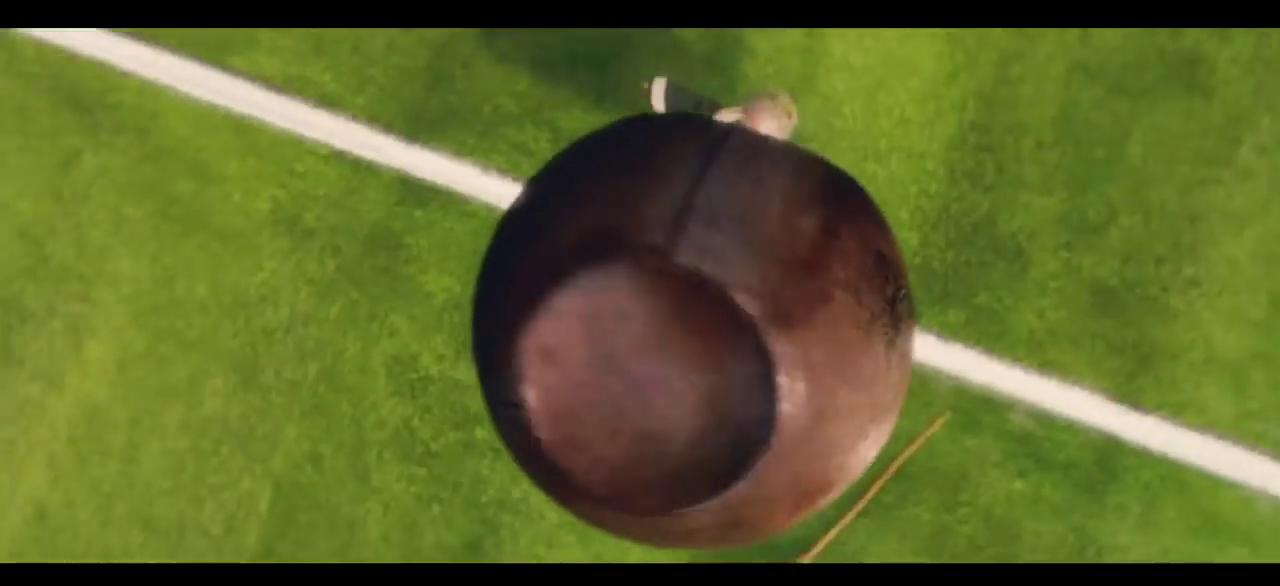quaffle: (476, 114, 919, 552)
